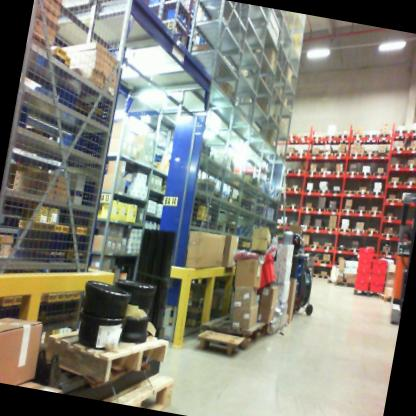forklift: (381, 137, 416, 326)
pallet: (44, 310, 187, 397), (72, 356, 200, 416), (199, 299, 272, 354), (181, 325, 245, 368), (19, 369, 75, 395), (367, 170, 387, 202), (387, 156, 406, 189), (350, 284, 380, 301), (373, 287, 394, 305), (375, 128, 393, 149), (333, 277, 357, 292), (389, 141, 407, 159), (392, 124, 408, 143), (322, 129, 336, 149), (405, 121, 416, 146), (350, 127, 366, 144), (348, 147, 364, 162), (308, 131, 323, 147), (323, 271, 340, 285), (364, 129, 377, 147), (381, 212, 399, 224), (284, 146, 296, 164), (305, 253, 320, 267), (363, 225, 379, 238), (350, 225, 366, 238), (294, 148, 311, 160), (405, 141, 416, 159), (310, 222, 324, 236), (362, 150, 376, 164), (333, 148, 347, 162), (297, 221, 312, 234), (285, 201, 301, 213), (383, 195, 400, 206), (335, 131, 349, 144), (302, 183, 316, 196), (337, 223, 352, 235), (311, 204, 326, 216), (353, 206, 369, 217), (403, 177, 416, 190), (330, 167, 344, 179), (358, 168, 372, 180), (379, 230, 395, 240), (318, 150, 334, 160), (325, 223, 338, 235), (300, 202, 313, 214), (319, 257, 332, 269), (354, 188, 368, 199), (307, 241, 322, 251), (348, 245, 363, 255), (378, 248, 393, 258), (315, 186, 330, 196), (345, 168, 360, 178), (404, 162, 416, 174), (289, 131, 301, 143), (343, 186, 355, 198), (339, 206, 355, 215), (309, 149, 320, 162), (328, 187, 341, 198), (316, 273, 333, 281), (367, 207, 382, 216), (299, 129, 307, 145), (321, 245, 335, 254), (335, 244, 349, 253), (294, 167, 308, 176), (325, 205, 337, 215), (317, 169, 331, 177), (288, 182, 299, 192), (307, 168, 318, 177), (308, 270, 317, 278)
small_load_carrier: (254, 249, 284, 293), (368, 277, 388, 294), (351, 274, 370, 291), (356, 242, 375, 258), (369, 267, 389, 280), (354, 255, 372, 268), (353, 265, 370, 277), (371, 256, 386, 269)
